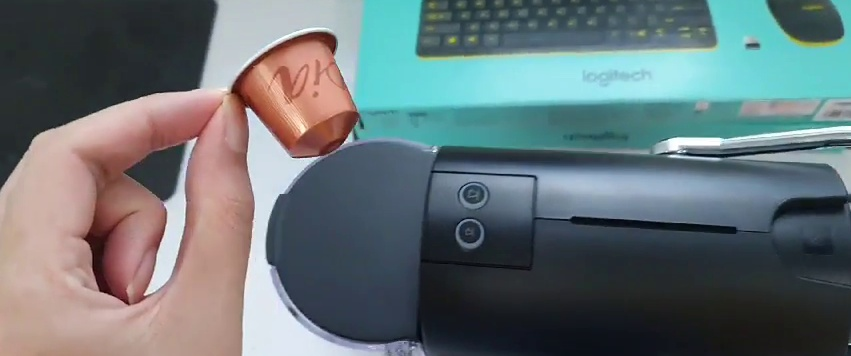capsule_6: (228, 28, 360, 157)
